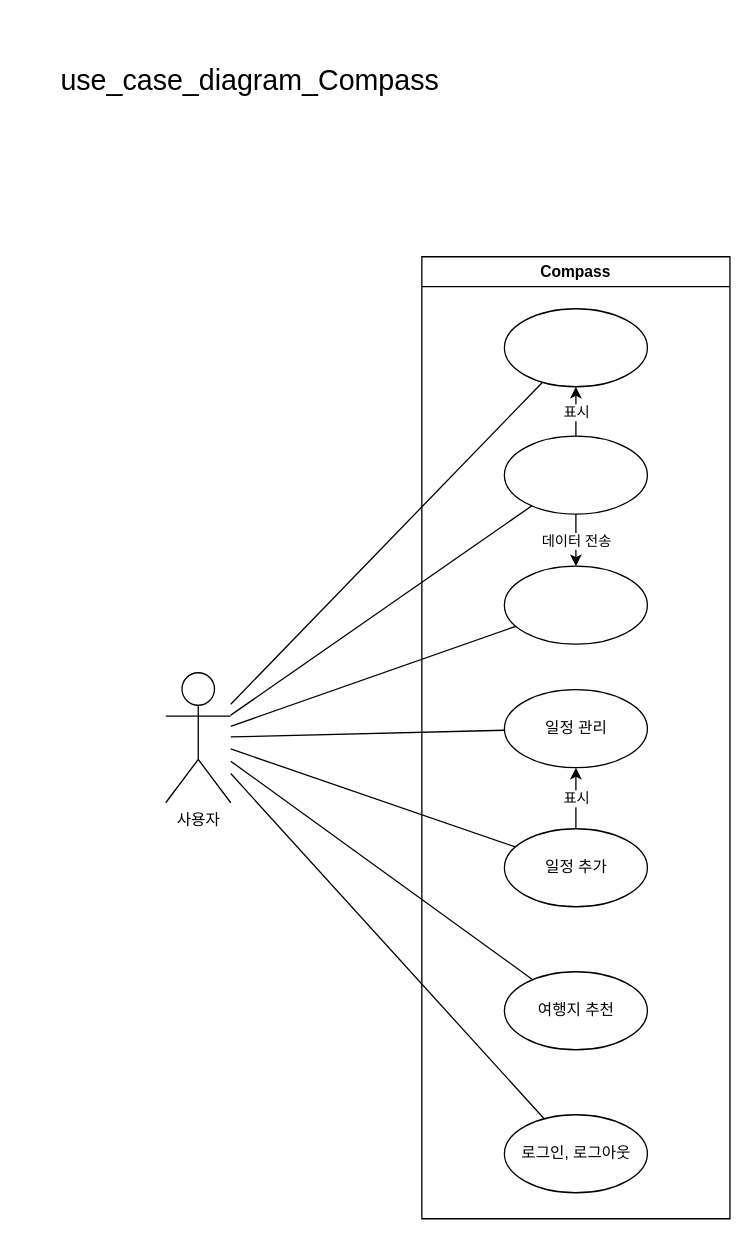
Image size: 753x1242. Some labels were removed from this diagram. The shapes that lost their labels are listed below. From the top down, each one's centre as x and y in pixels, then its label:
point 575,347: 지도 보기
point 575,474: 마커 생성
point 575,604: 생성된 마커 확인
